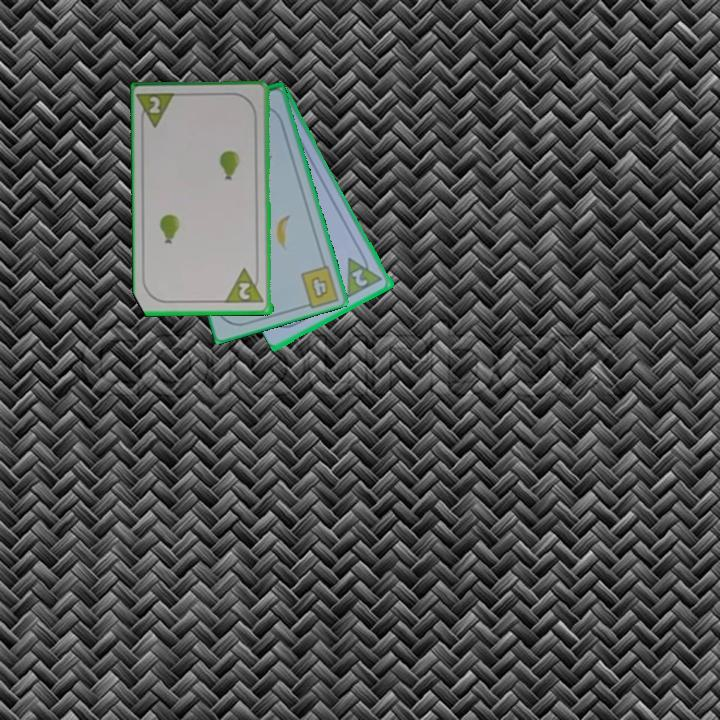2p: (136, 90, 180, 132), (224, 265, 267, 306), (349, 265, 371, 290)
4b: (308, 273, 331, 302)
